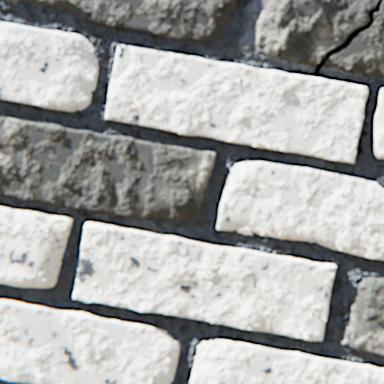brick: (74, 222, 336, 339), (106, 45, 367, 162), (0, 117, 216, 221), (217, 160, 383, 258), (0, 298, 180, 383), (7, 0, 238, 42), (190, 337, 383, 383), (0, 22, 99, 111), (0, 206, 73, 286), (340, 276, 383, 353), (374, 88, 383, 158)
broken_brick: (252, 0, 379, 64), (324, 1, 383, 75)
crack: (313, 0, 383, 77), (324, 77, 370, 152)
